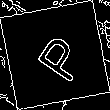P_NW: (24, 26, 86, 84)
